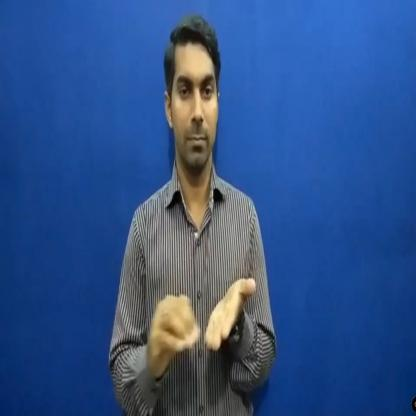ExcuseMe: (146, 236, 258, 366)
